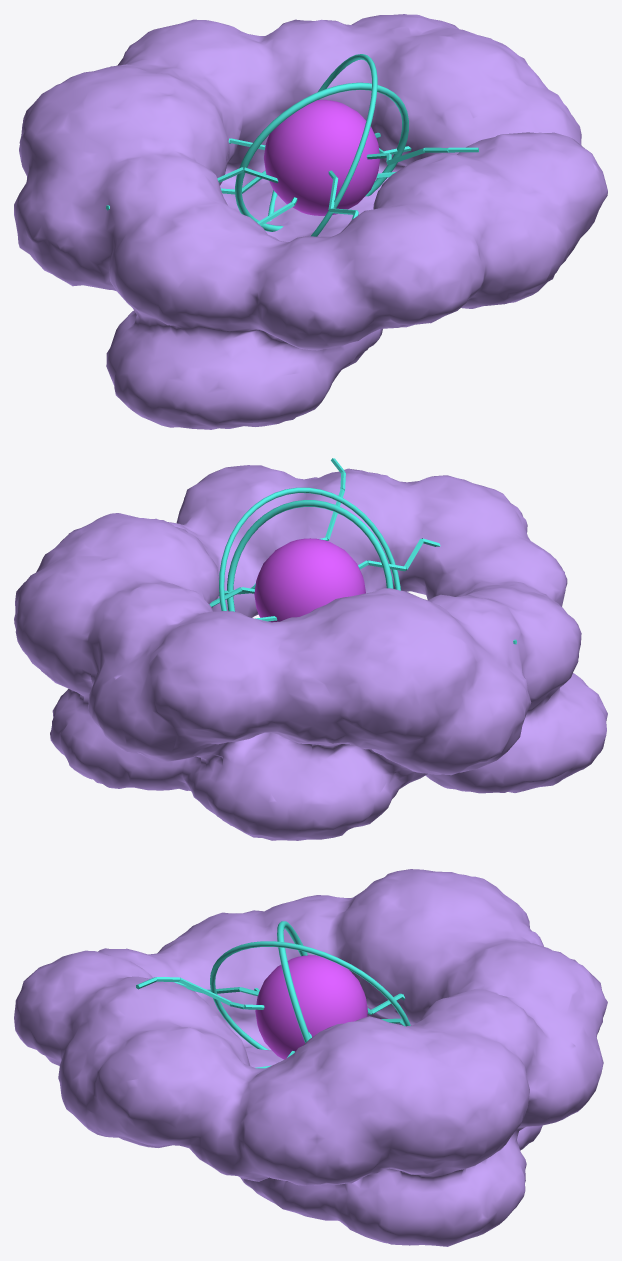
Rendered from aether_vein.obj.
3 views of the same model, one above another, from view 1: azimuth 30°, elevation 25°; view 2: azimuth 150°, elevation 25°; view 3: azimuth 270°, elevation 25° (orthographic). The views are drawn at different scales.
Parts seen in each view (by area): view 1: aether_vein; view 2: aether_vein; view 3: aether_vein.
Boxes of the visible parts, x1,y1,x2,y2 form: aether_vein: (14, 14, 607, 429); aether_vein: (14, 458, 607, 840); aether_vein: (14, 869, 607, 1246).
Bounding box in the file's own units: 1047 × 542 × 1100.
1 material, 1 textured.
